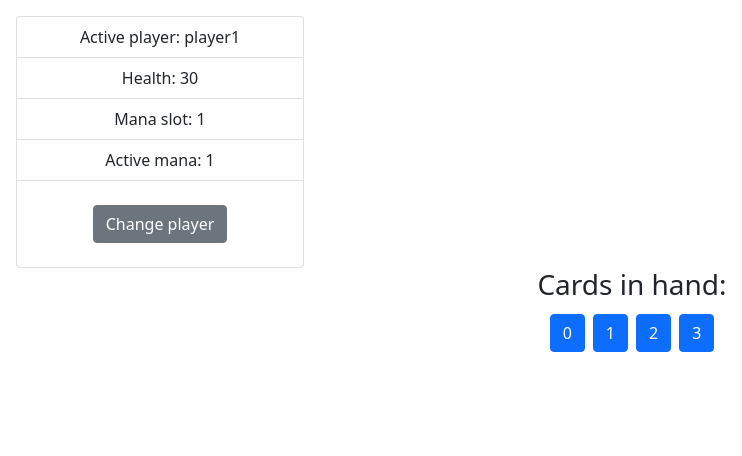
Test case: Trading card game › playing a 1 cost card › the active players active mana decreases by 1
The image size is (742, 456).
Click the button with test id "test1".
click(610, 333)  # box [593, 314, 628, 352]
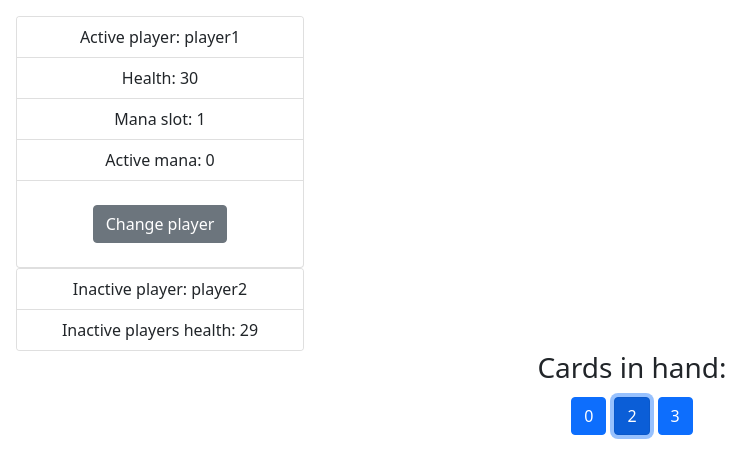
expect the text "Active mana: 0" is shown: met, box [17, 140, 303, 180]
